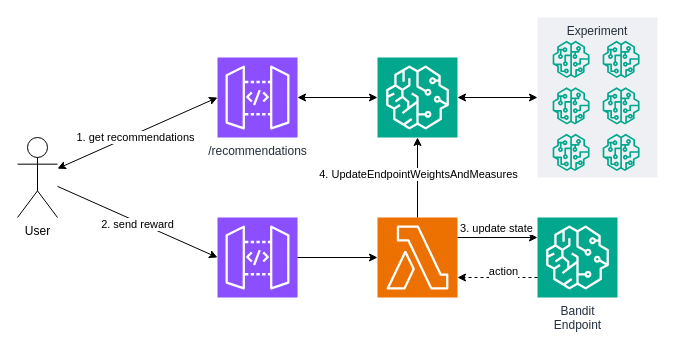
Some shapes in this 675 by 350 pixel diagram are drawn without their labels. Each missing label, with the centre of its shape:
/reward: pixel 257 257
Recommendations Endpoint: pixel 417 97
